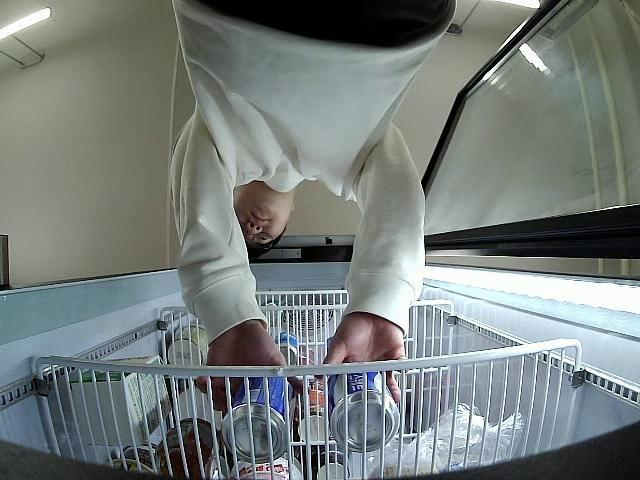13_pocariSweat: (222, 374, 296, 464), (326, 370, 400, 453)
